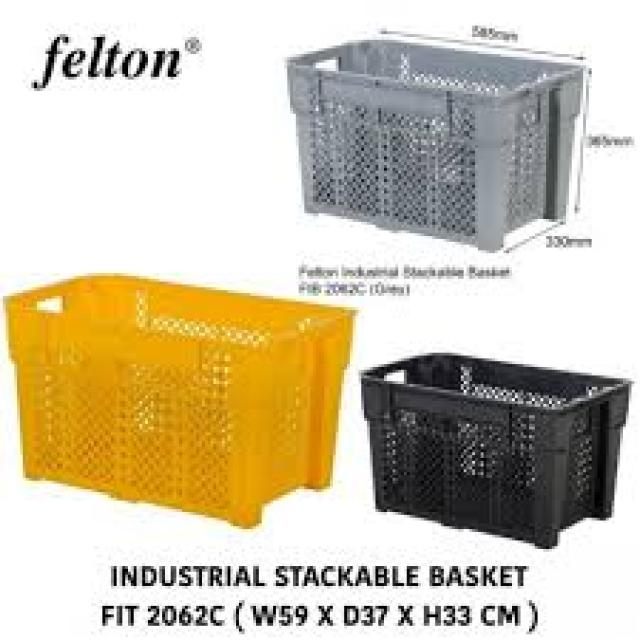basket: (0, 259, 358, 538), (266, 16, 602, 263), (343, 342, 636, 559)
